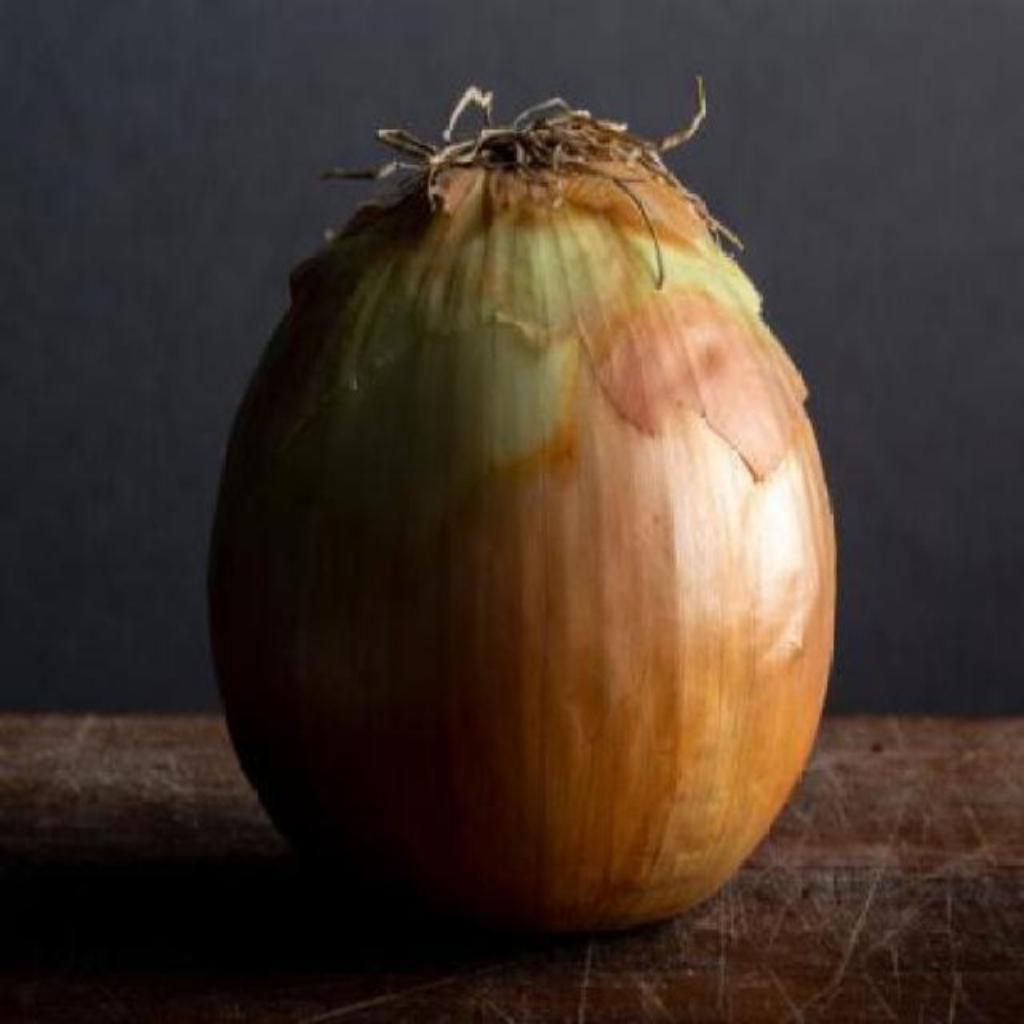Onion: (203, 99, 837, 942)
